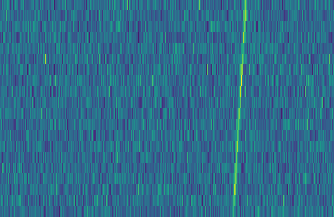signal: (229, 0, 251, 217)
